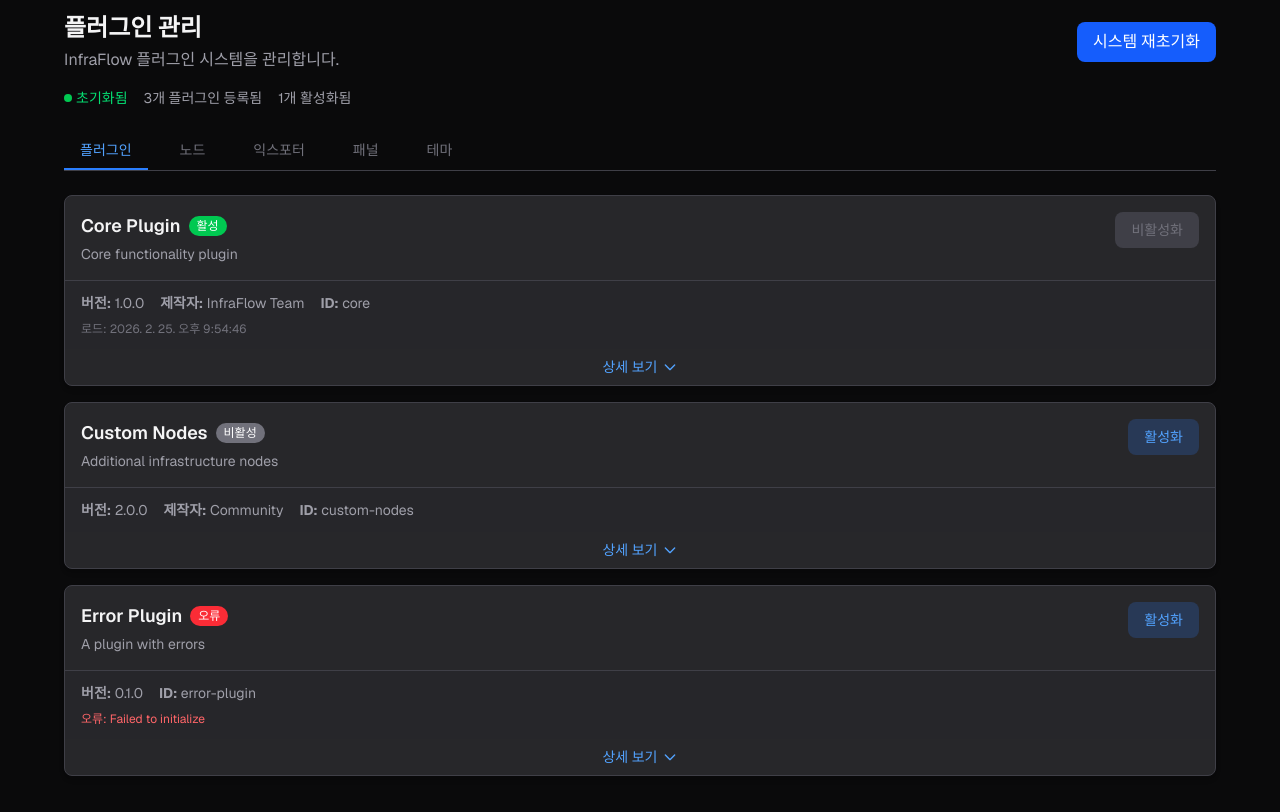
Scenario: PluginManager › Nodes Tab › should display node search input
Click the button "노드" at coordinates (192, 151), box [164,132,221,170]
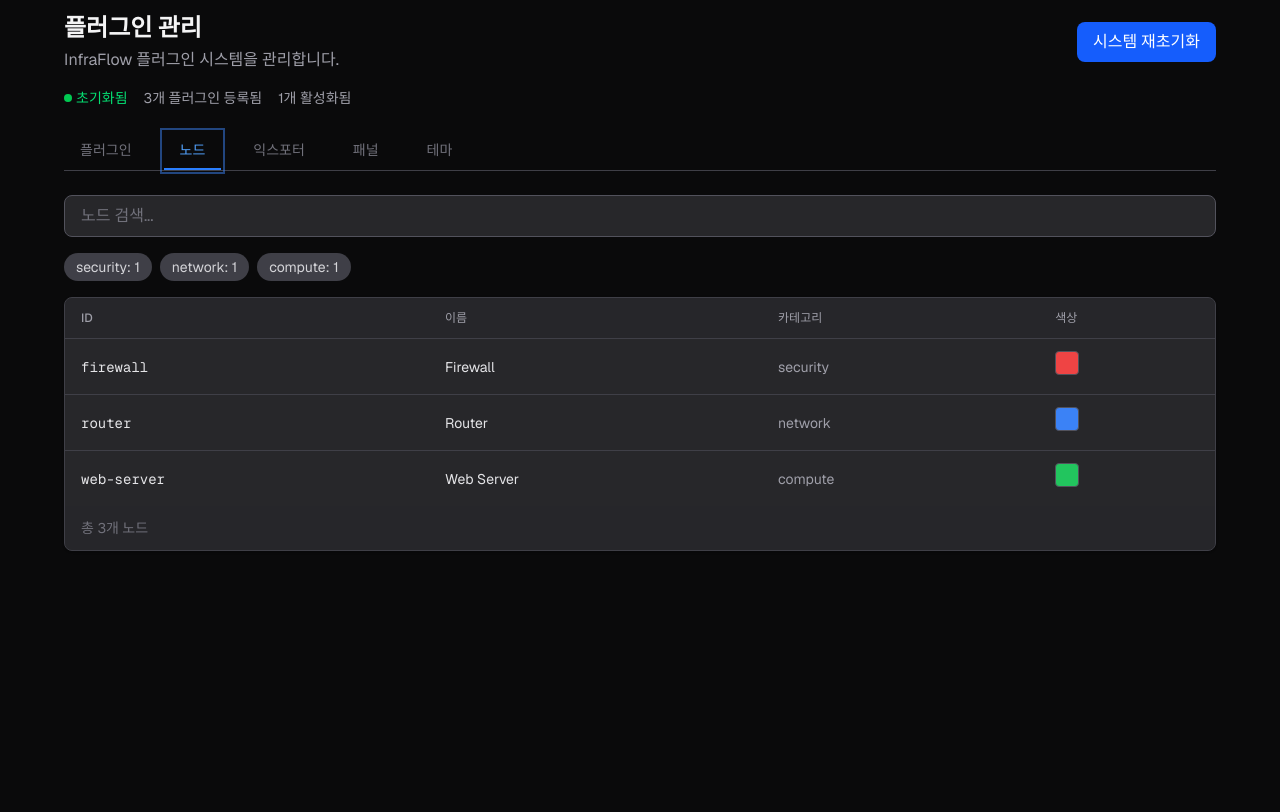
Expected: the field with placeholder "노드 검색..." is shown, [64,195,1216,237]
